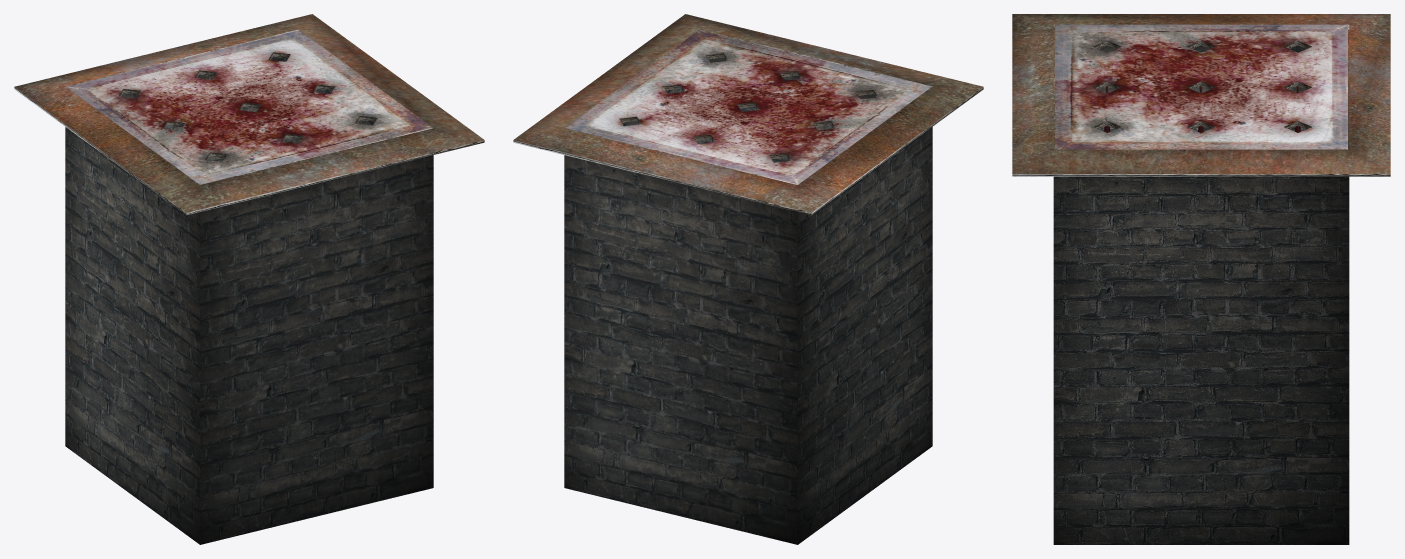
The model's file is animated_trap3.fbx.
3 views of the same model, side by side, from view 1: azimuth 30°, elevation 25°; view 2: azimuth 150°, elevation 25°; view 3: azimuth 270°, elevation 25° (orthographic). The views are drawn at different scales.
Visible parts, largest first — view 1: tramp3, tap; view 2: tramp3, tap; view 3: tramp3, tap.
Boxes of the visible parts, left/top/right/bottom form: tramp3: left=14, top=14, right=484, bottom=544; tap: left=66, top=30, right=432, bottom=184; tramp3: left=513, top=14, right=983, bottom=544; tap: left=565, top=30, right=931, bottom=184; tramp3: left=1012, top=14, right=1390, bottom=544; tap: left=1055, top=24, right=1347, bottom=149.
Bounding box in the file's own units: 1.19 × 1.37 × 1.19.
1 material, 1 textured.
